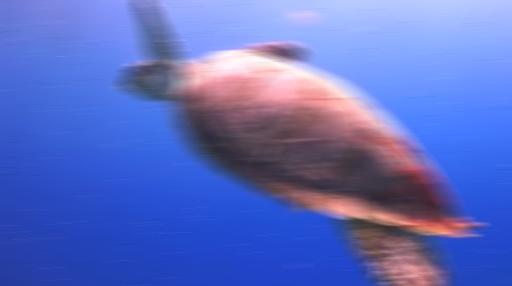Fish: (121, 0, 478, 285)
